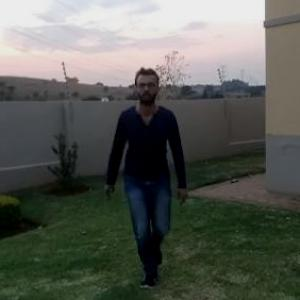follow: (112, 68, 183, 282)
